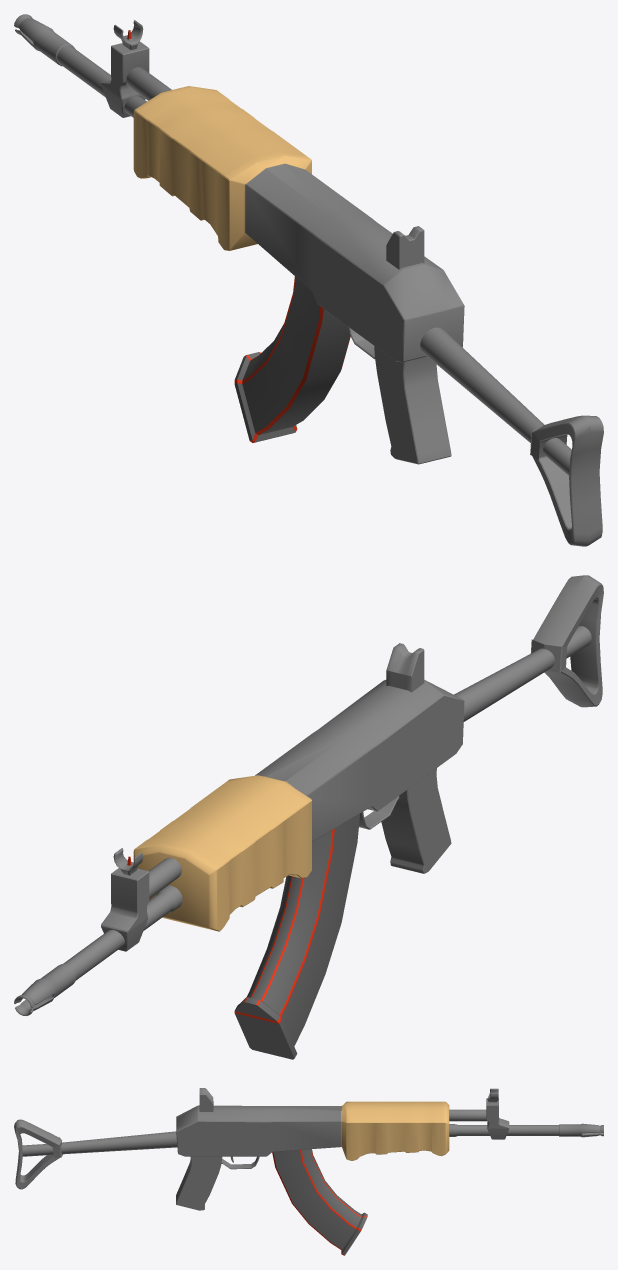
3 renders of one model, top to bottom at view 1: azimuth 30°, elevation 25°; view 2: azimuth 150°, elevation 25°; view 3: azimuth 270°, elevation 25°, orthographic. The views are drawn at different scales.
Parts seen in each view (by area): view 1: Cube, Cube.001; view 2: Cube, Cube.001; view 3: Cube, Cube.001.
Boxes of the visible parts, x1=… form: Cube: x1=14, y1=14, x2=603, y2=546; Cube.001: x1=234, y1=276, x2=350, y2=442; Cube: x1=14, y1=575, x2=603, y2=1015; Cube.001: x1=234, y1=813, x2=360, y2=1059; Cube: x1=14, y1=1088, x2=603, y2=1210; Cube.001: x1=272, y1=1149, x2=367, y2=1255.
Bounding box in the file's own units: 82.99 × 293 × 981.
